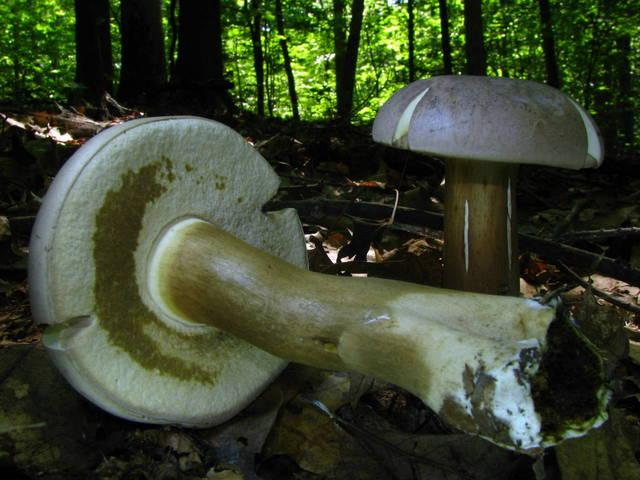Non-edible Mushroom: (20, 95, 609, 452), (370, 72, 604, 297)
